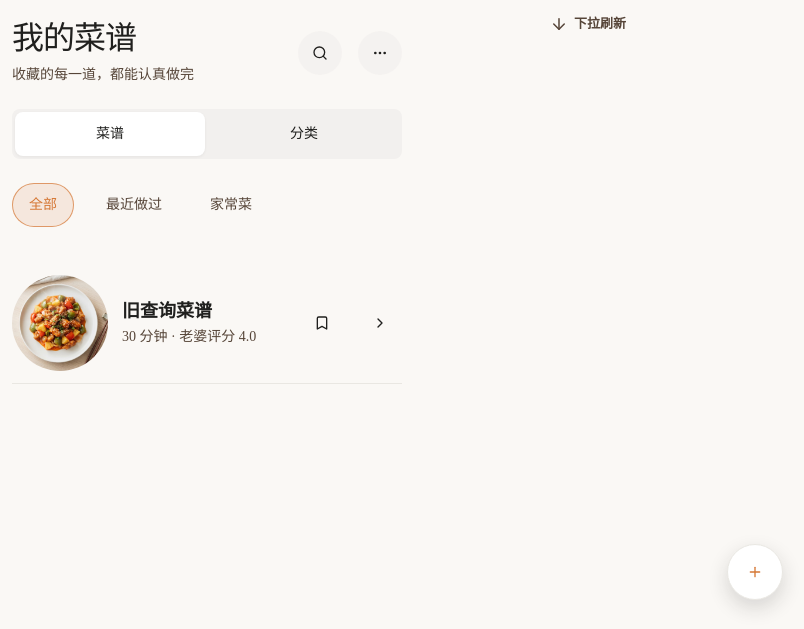
Test: Stitch V3 recipe list contract › does not reuse a successful snapshot from a different query for background failure semantics
Check: the button named "查看菜谱 旧查询菜谱" is shown, box [358, 301, 402, 345]
Click the button named "搜索": (320, 52) [298, 30, 342, 74]
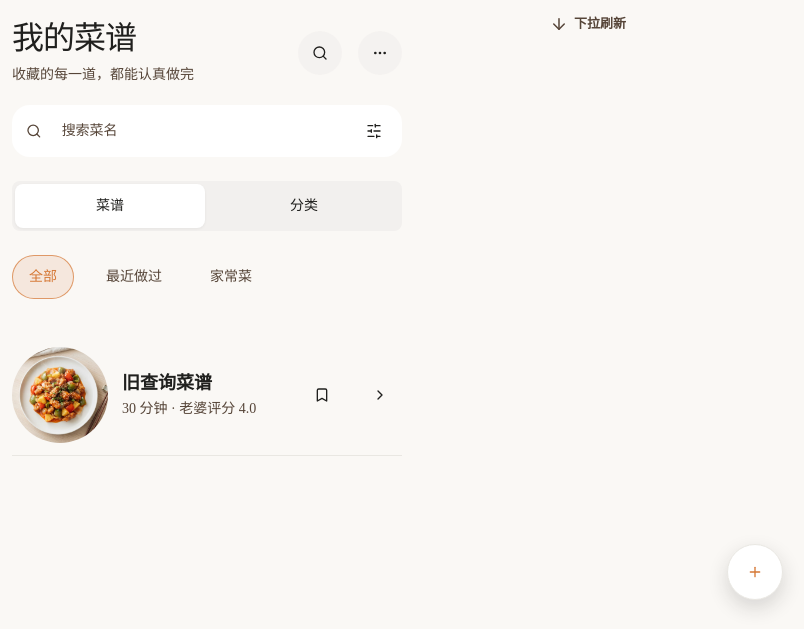
In the field labelled "搜索菜名": (197, 131) [50, 109, 344, 153], type "新查询"
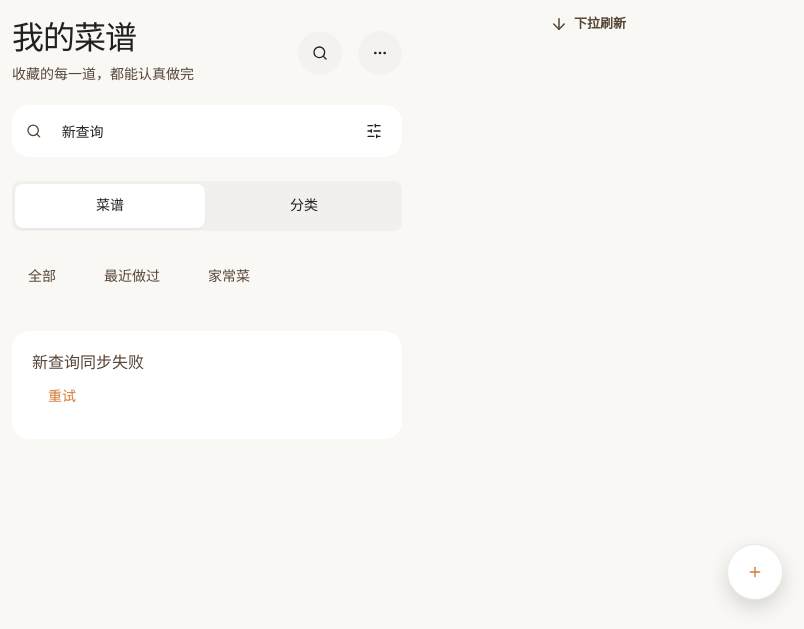
Check: the text "新查询同步失败" is shown, box [32, 354, 144, 371]
